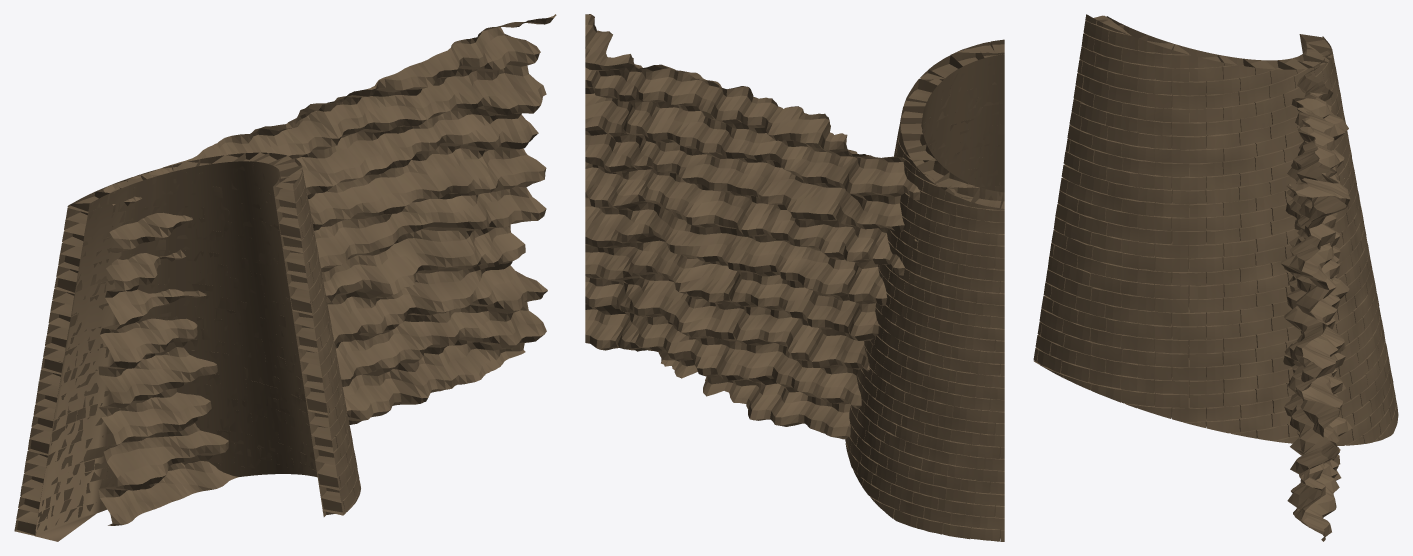
The model's file is temple03.glb.
3 views of the same model, side by side, from view 1: azimuth 30°, elevation 25°; view 2: azimuth 150°, elevation 25°; view 3: azimuth 270°, elevation 25° (orthographic). The views are drawn at different scales.
Visible parts, largest first — view 1: TEMPLE03_original_v5; view 2: TEMPLE03_original_v5; view 3: TEMPLE03_original_v5.
Part boxes in pixels (x1,y1,x2,y2): TEMPLE03_original_v5: [14, 14, 556, 541]; TEMPLE03_original_v5: [585, 14, 1004, 541]; TEMPLE03_original_v5: [1033, 14, 1398, 541].
Bounding box in the file's own units: 5.94 × 4.83 × 3.58.
